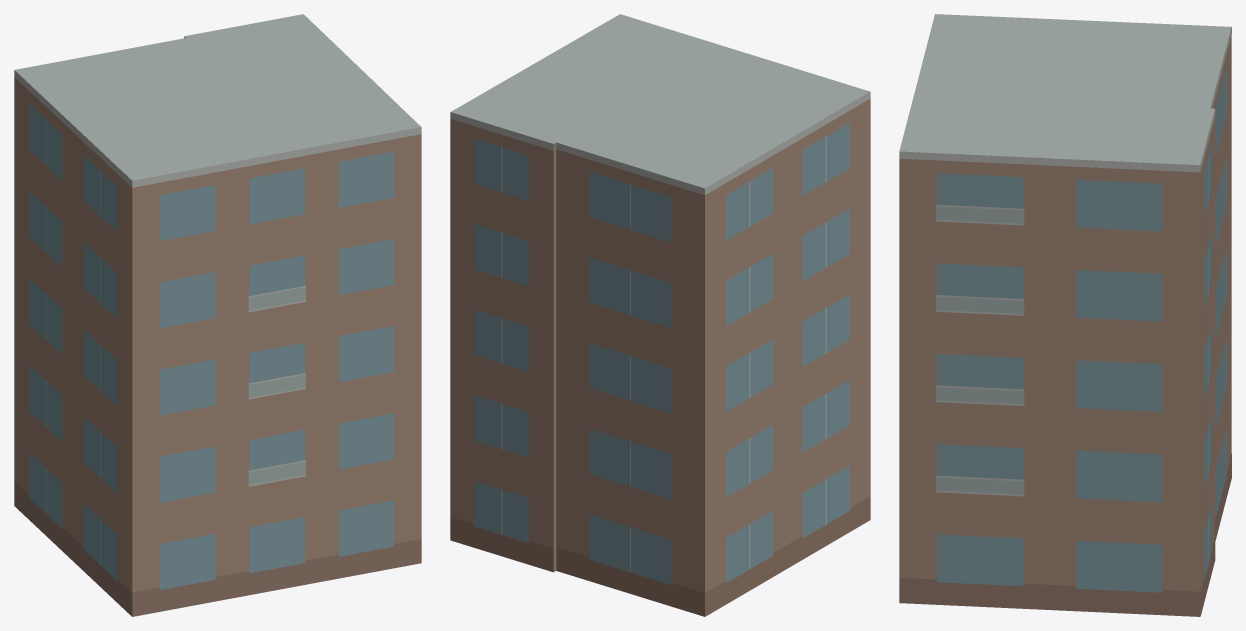
File: survey-upis-32900771.glb
The picture shows the model from 3 angles, left to right: view 1: azimuth 30°, elevation 25°; view 2: azimuth 150°, elevation 25°; view 3: azimuth 270°, elevation 25°; orthographic projection. The views are drawn at different scales.
Visible parts, largest first — view 1: survey-upis-32900771.tmp; view 2: survey-upis-32900771.tmp; view 3: survey-upis-32900771.tmp.
Boxes of the visible parts, x1=… form: survey-upis-32900771.tmp: x1=14, y1=14, x2=421, y2=616; survey-upis-32900771.tmp: x1=450, y1=14, x2=870, y2=616; survey-upis-32900771.tmp: x1=899, y1=14, x2=1231, y2=616.
Size of the model in its own units: 11.01 by 15.3 by 10.22.
